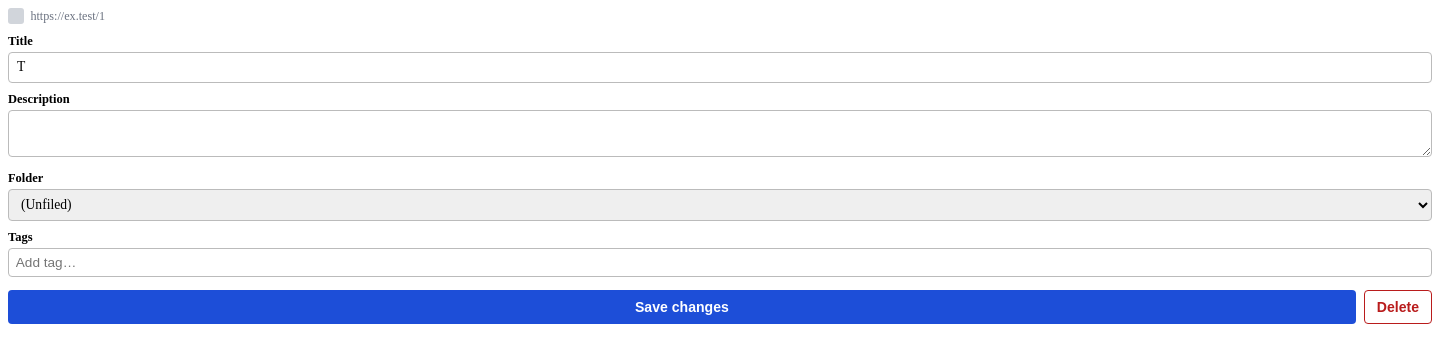
it: BookmarkForm — inline two-stage delete › blur disarms without deleting
Click the button with class "danger". click: (1398, 307)
box: [1364,290,1432,324]
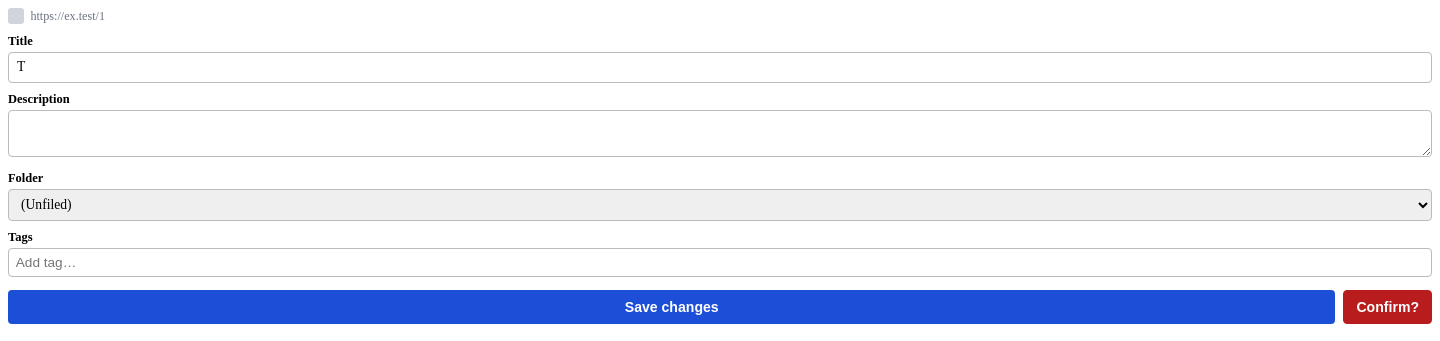
Expected: the button with class "danger" reads "Confirm?"
Leave the button with class "danger", box [1343,290,1432,324]
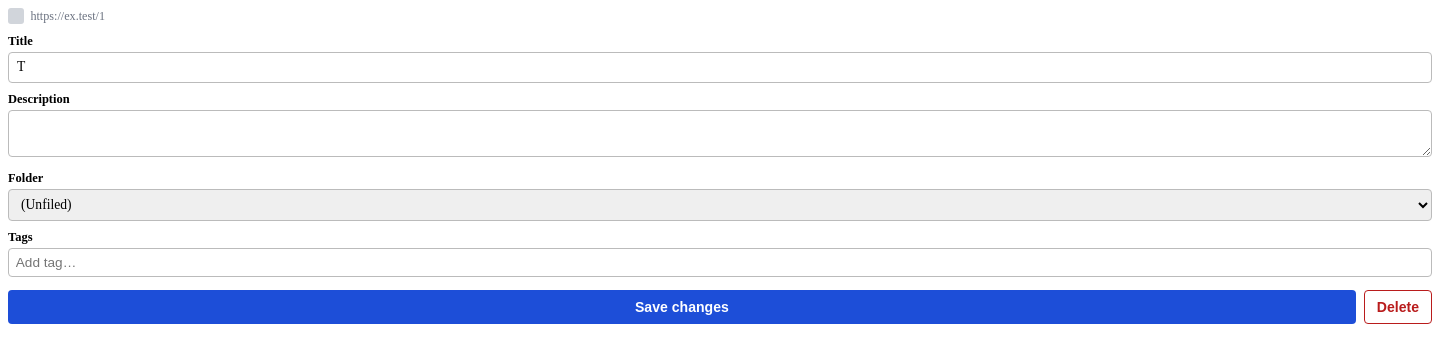
Expected: the button with class "danger" reads "Delete", [1364,290,1432,324]
